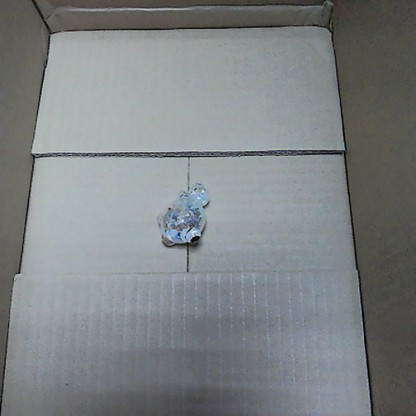whitefish: (155, 178, 210, 248)
